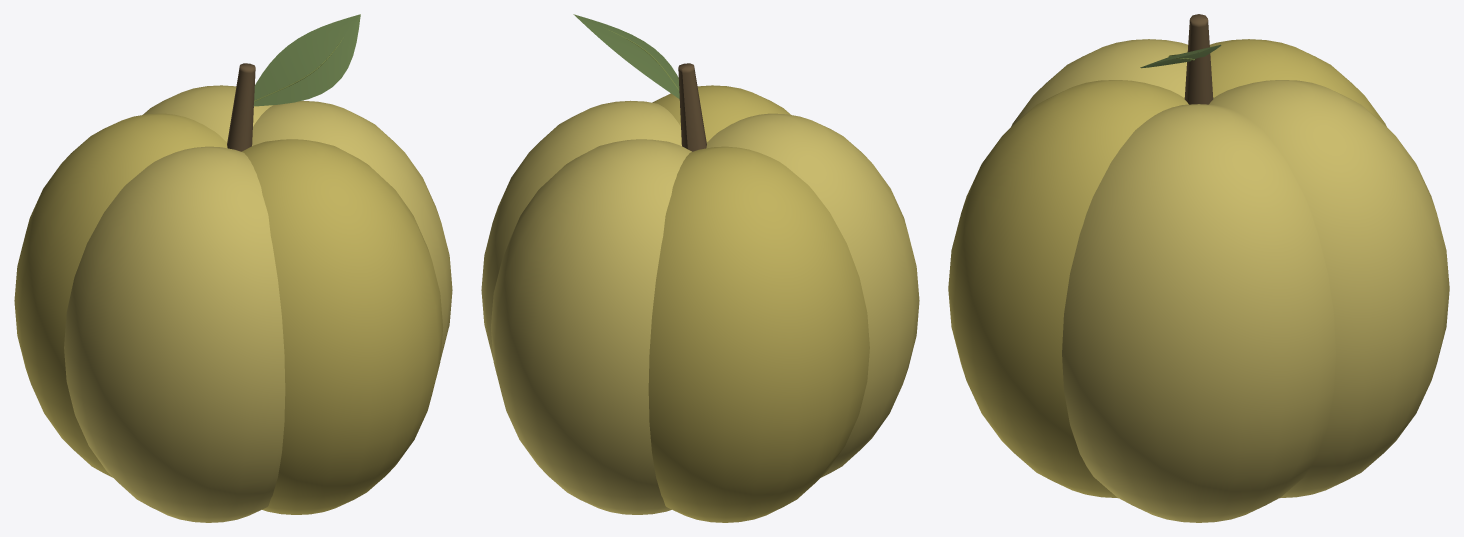
Rendered from props_p10__p10_apple.glb.
The picture shows the model from 3 angles, left to right: view 1: azimuth 30°, elevation 25°; view 2: azimuth 150°, elevation 25°; view 3: azimuth 270°, elevation 25°; orthographic projection. The views are drawn at different scales.
Visible parts, largest first — view 1: reference_static_surfaces (×2), apple_leaf, apple_stem; view 2: reference_static_surfaces (×2), apple_leaf, apple_stem; view 3: reference_static_surfaces (×2), apple_stem.
Boxes of the visible parts, left/top/right/bottom form: reference_static_surfaces (×2): left=14, top=85, right=452, bottom=522; apple_leaf: left=253, top=14, right=360, bottom=106; apple_stem: left=227, top=63, right=255, bottom=151; reference_static_surfaces (×2): left=481, top=85, right=919, bottom=522; apple_leaf: left=574, top=14, right=679, bottom=98; apple_stem: left=678, top=63, right=706, bottom=151; reference_static_surfaces (×2): left=948, top=39, right=1449, bottom=522; apple_stem: left=1184, top=14, right=1213, bottom=104.
Bounding box in the file's own units: 0.0852 × 0.0957 × 0.0888.
